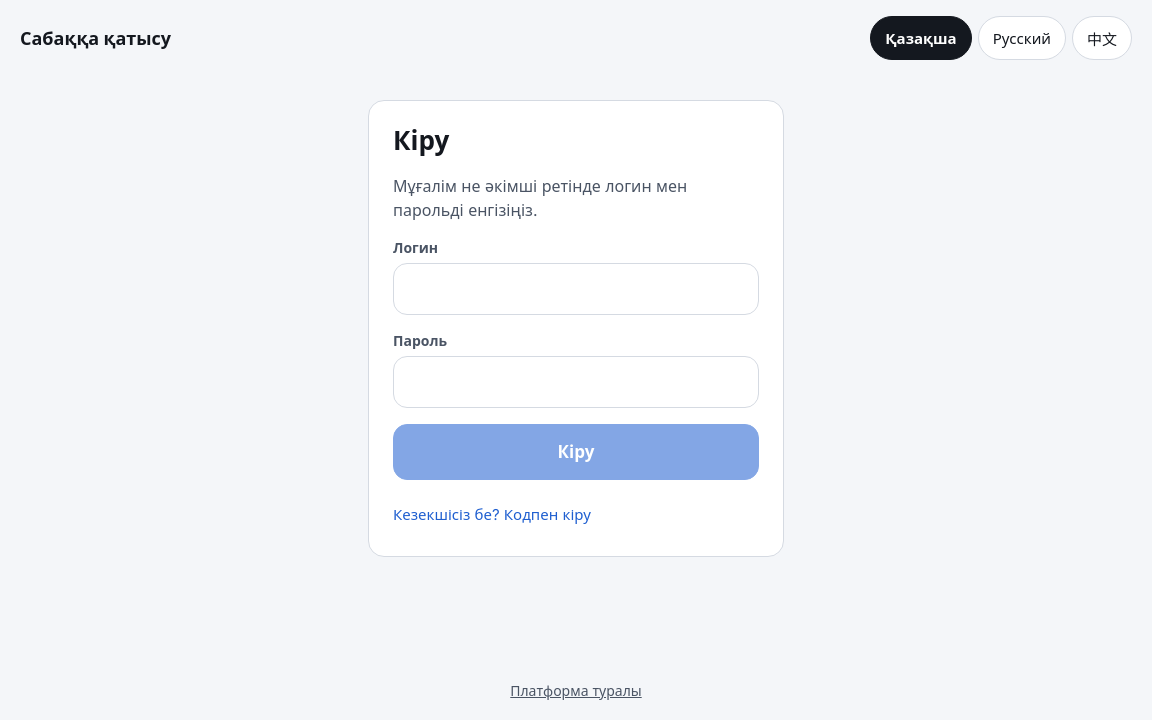
Scenario: кіру › дұрыс логин-парольмен бастапқы бет ашылады, CSRF белгісі жіберіледі
The image size is (1152, 720).
Type "  mugalim7 " into the field labelled "Логин" at (576, 288), box [393,262,759,314]
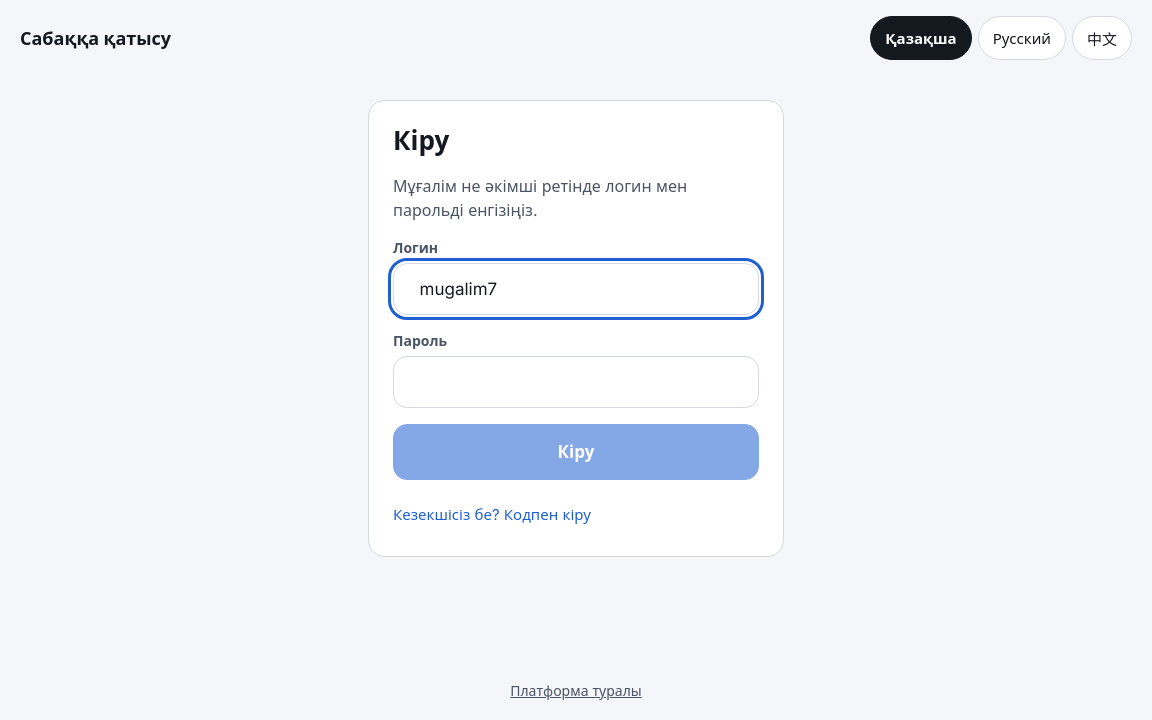
Type "qupiya123" into the password field labelled "Пароль" at (576, 382), box [393,356,759,408]
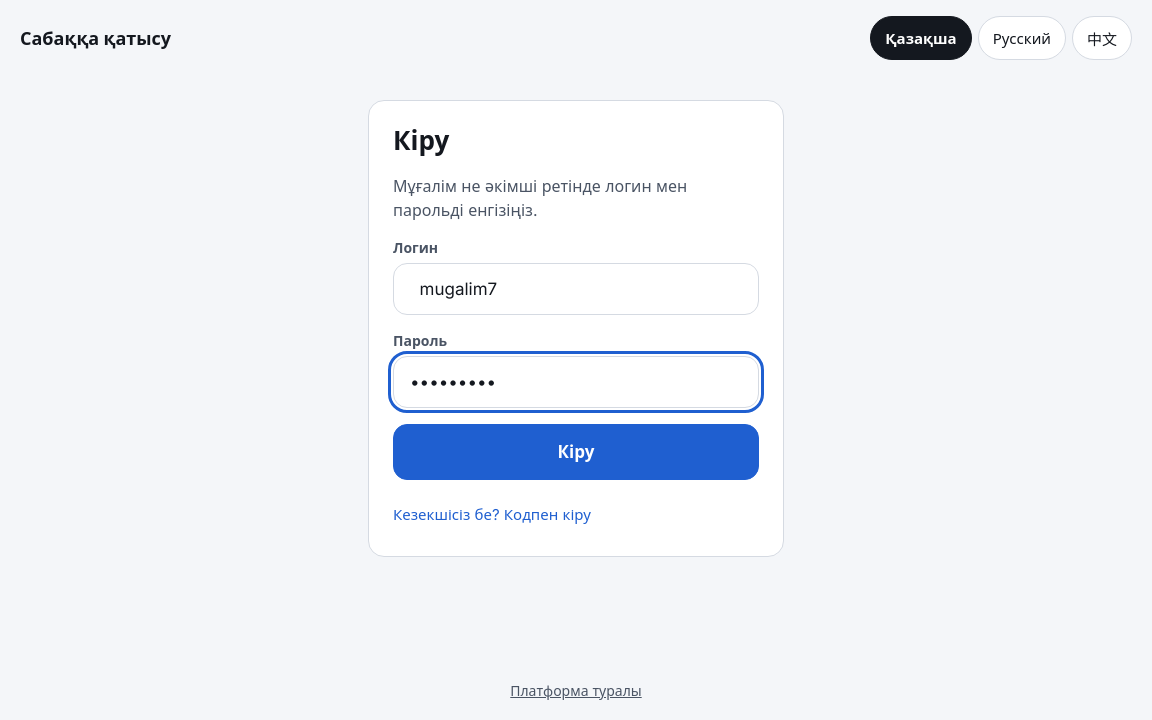
Click the button "Кіру" at (576, 452), box [393,424,759,480]
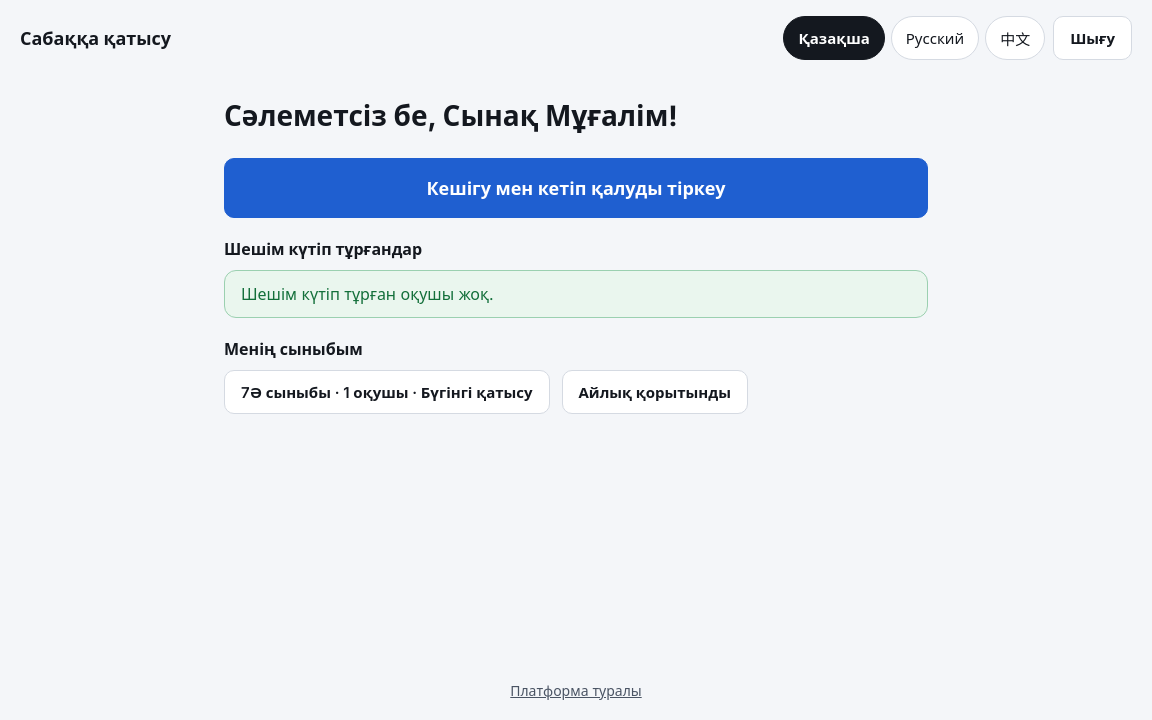
Now the heading "Сәлеметсіз бе, Сынақ Мұғалім!" is shown, box [224,99,678,133]
